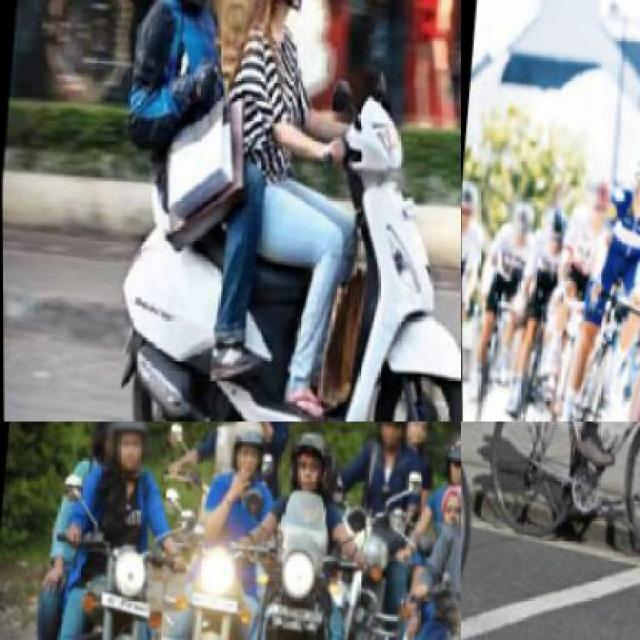With Helmet: (282, 422, 338, 500), (220, 422, 271, 486), (103, 421, 157, 474), (537, 197, 577, 261), (582, 170, 616, 235), (365, 421, 420, 457), (506, 195, 536, 248), (460, 180, 483, 242), (438, 422, 458, 483), (624, 140, 638, 214), (404, 422, 436, 438)
